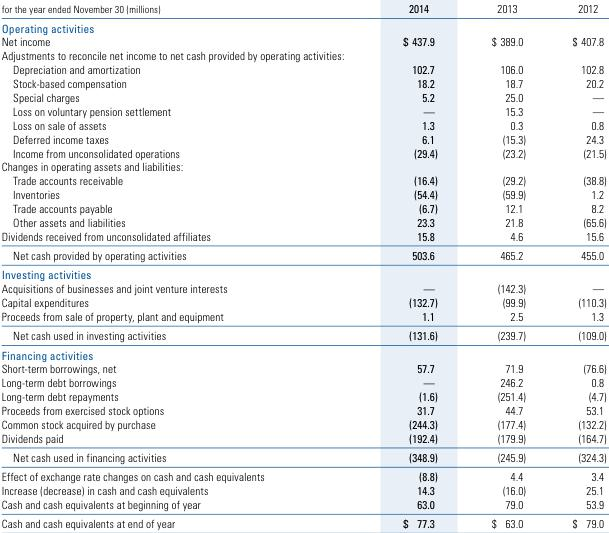table: (0, 1, 605, 530)
table column: (0, 1, 333, 530), (333, 1, 463, 530), (463, 1, 548, 530), (548, 1, 605, 530)
table column header: (0, 1, 605, 17)
table projected row header: (0, 17, 605, 34), (0, 264, 605, 281), (0, 344, 605, 361), (0, 48, 605, 62), (0, 159, 605, 173)
table row: (0, 245, 605, 264), (0, 325, 605, 344), (0, 447, 605, 466), (0, 17, 605, 34), (0, 228, 605, 245), (0, 264, 605, 281), (0, 308, 605, 325), (0, 344, 605, 361), (0, 430, 605, 447), (0, 466, 605, 483), (0, 496, 605, 513), (0, 513, 605, 530), (0, 1, 605, 17), (0, 34, 605, 48), (0, 48, 605, 62), (0, 75, 605, 89), (0, 89, 605, 103), (0, 103, 605, 117), (0, 117, 605, 131), (0, 131, 605, 145), (0, 145, 605, 159), (0, 159, 605, 173), (0, 173, 605, 187), (0, 200, 605, 214), (0, 214, 605, 228), (0, 294, 605, 308), (0, 361, 605, 375), (0, 375, 605, 389), (0, 402, 605, 416), (0, 416, 605, 430), (0, 62, 605, 75), (0, 187, 605, 200), (0, 281, 605, 294), (0, 389, 605, 402), (0, 483, 605, 496)
